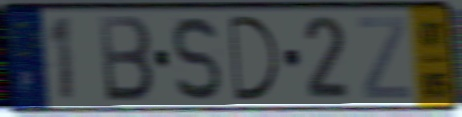1: (43, 14, 76, 104)
2: (301, 14, 352, 103)
B: (96, 13, 157, 105)
D: (225, 13, 284, 104)
S: (170, 14, 224, 104)
Z: (355, 14, 413, 102)
